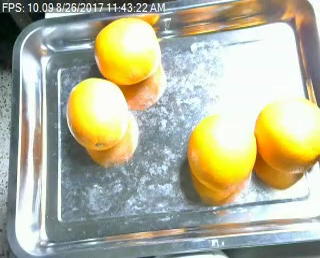Orange: (188, 111, 258, 190), (256, 97, 320, 175), (92, 16, 160, 85), (66, 77, 129, 149)
